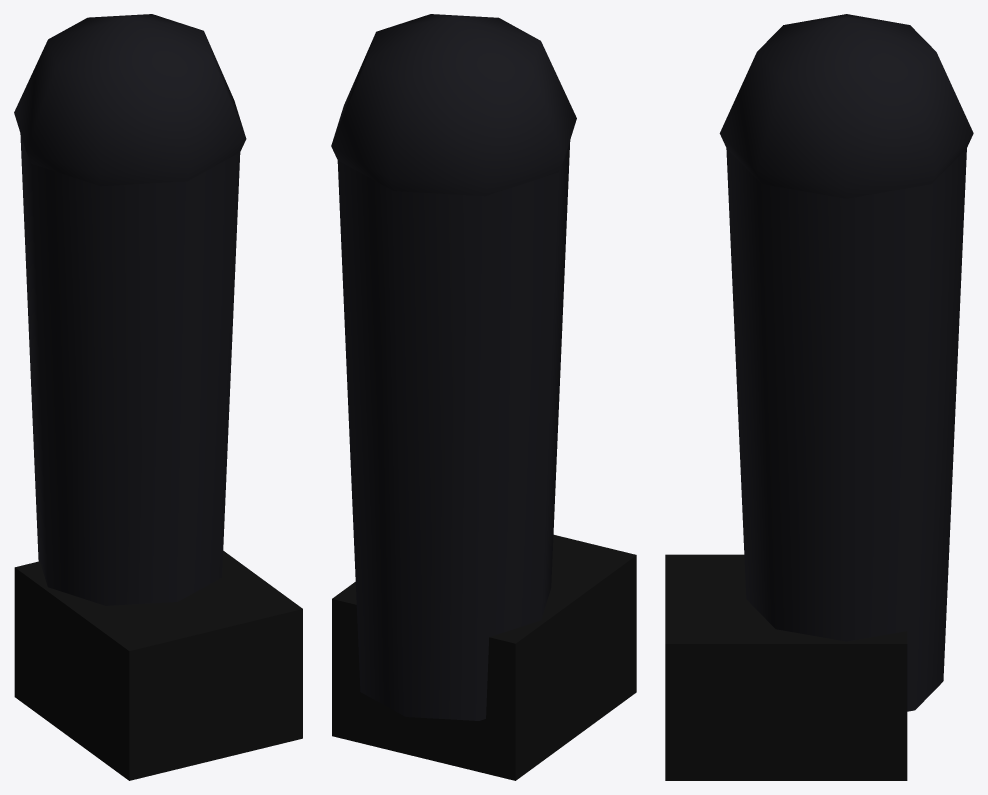
File: PVeladora_Pantorrilla.obj
3 views of the same model, side by side, from view 1: azimuth 30°, elevation 25°; view 2: azimuth 150°, elevation 25°; view 3: azimuth 270°, elevation 25° (orthographic). The views are drawn at different scales.
Parts seen in each view (by area): view 1: Pantorrilla; view 2: Pantorrilla; view 3: Pantorrilla.
Boxes of the visible parts, box(x1,y1,x2,y2) form: Pantorrilla: box(14, 14, 302, 780); Pantorrilla: box(331, 14, 636, 780); Pantorrilla: box(665, 14, 973, 780).
Bounding box in the file's own units: 0.084 × 0.262 × 0.102.
Materials: 1 (1 with a texture image).
